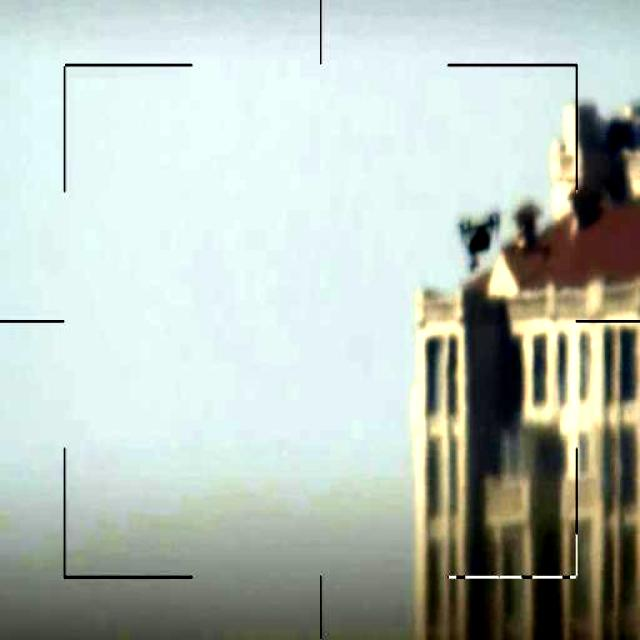bird: (451, 205, 502, 280)
